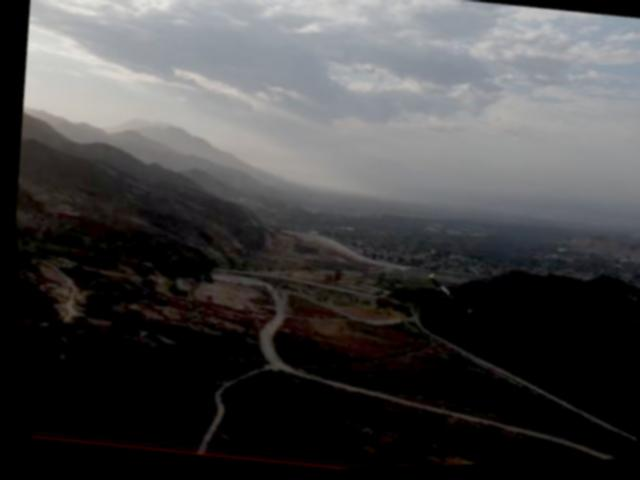iha: (419, 274, 472, 319)
